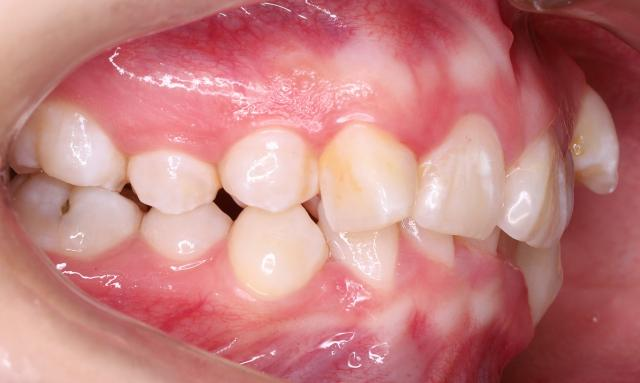molar class I: (4, 102, 140, 260)
